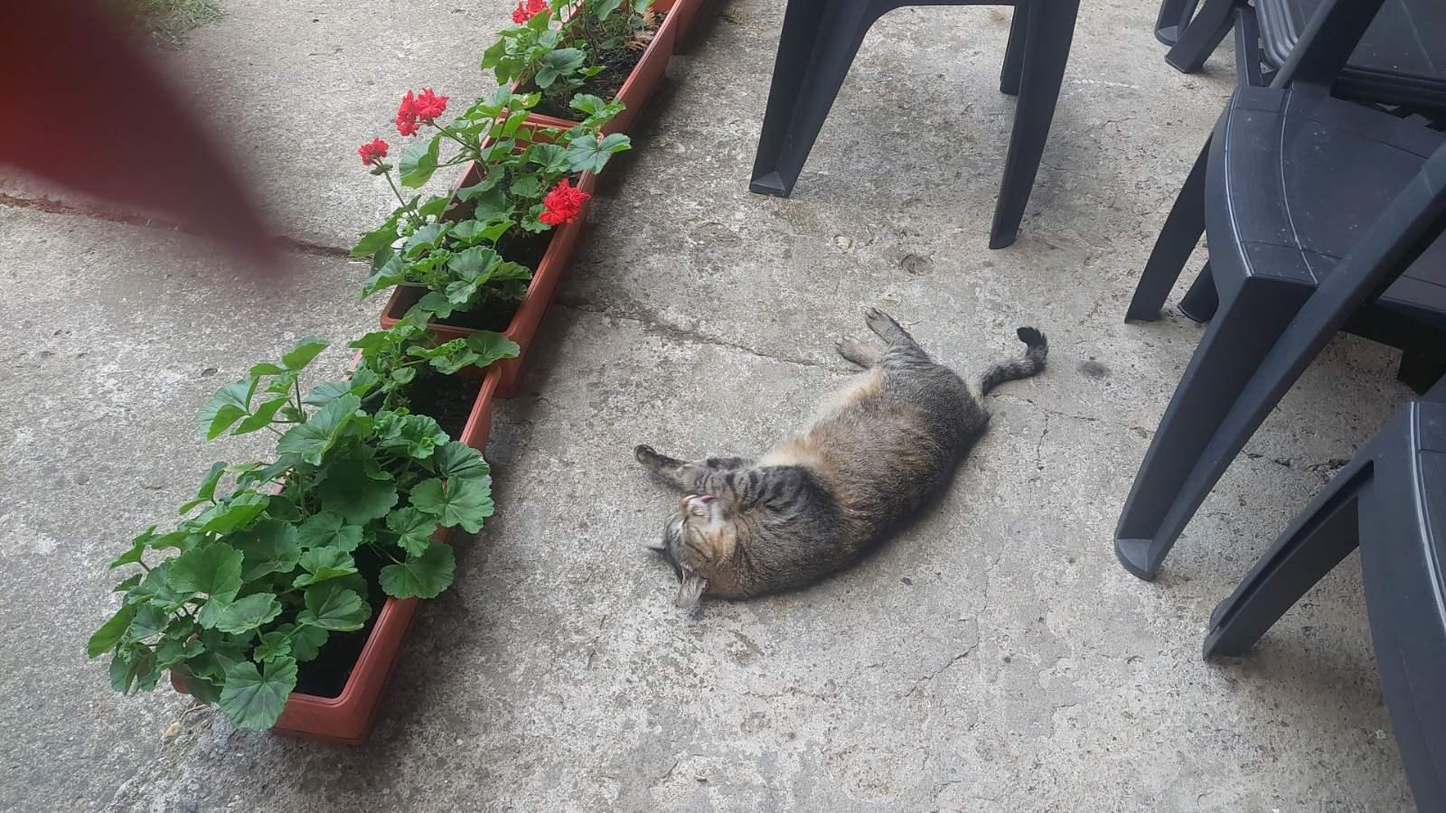macka: (635, 305, 1048, 608)
